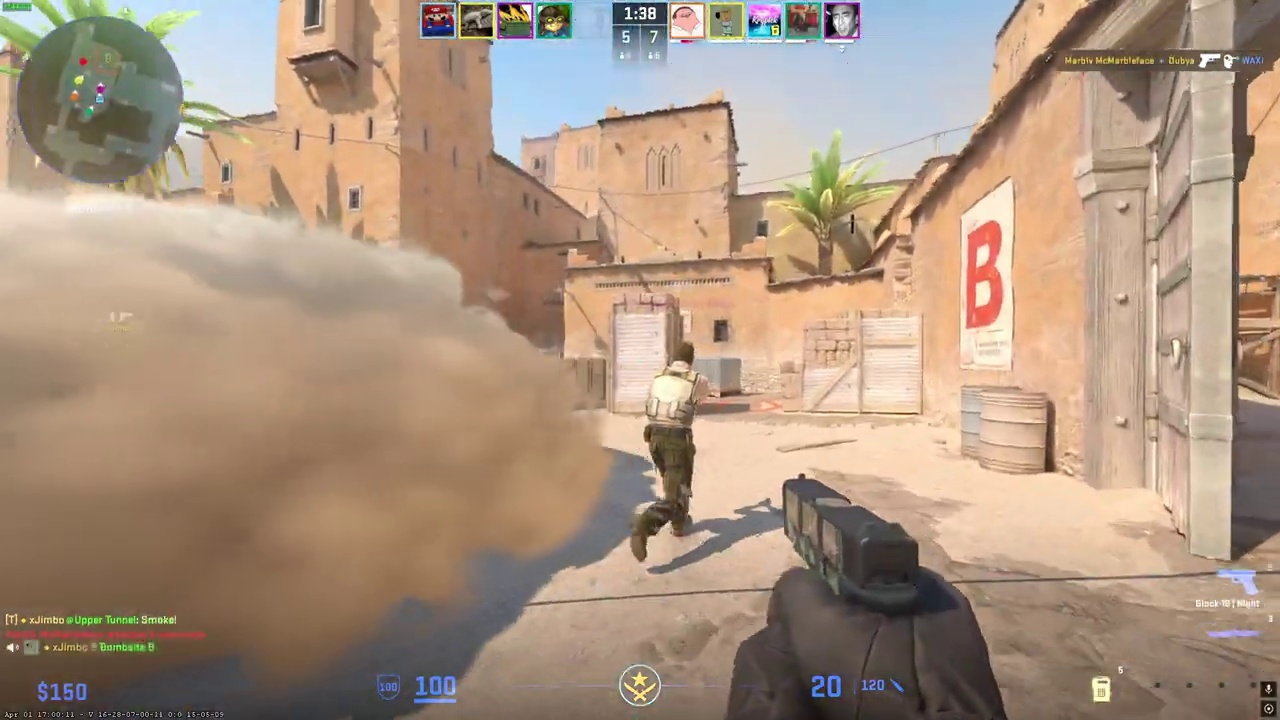Terrorist: (632, 342, 710, 561)
